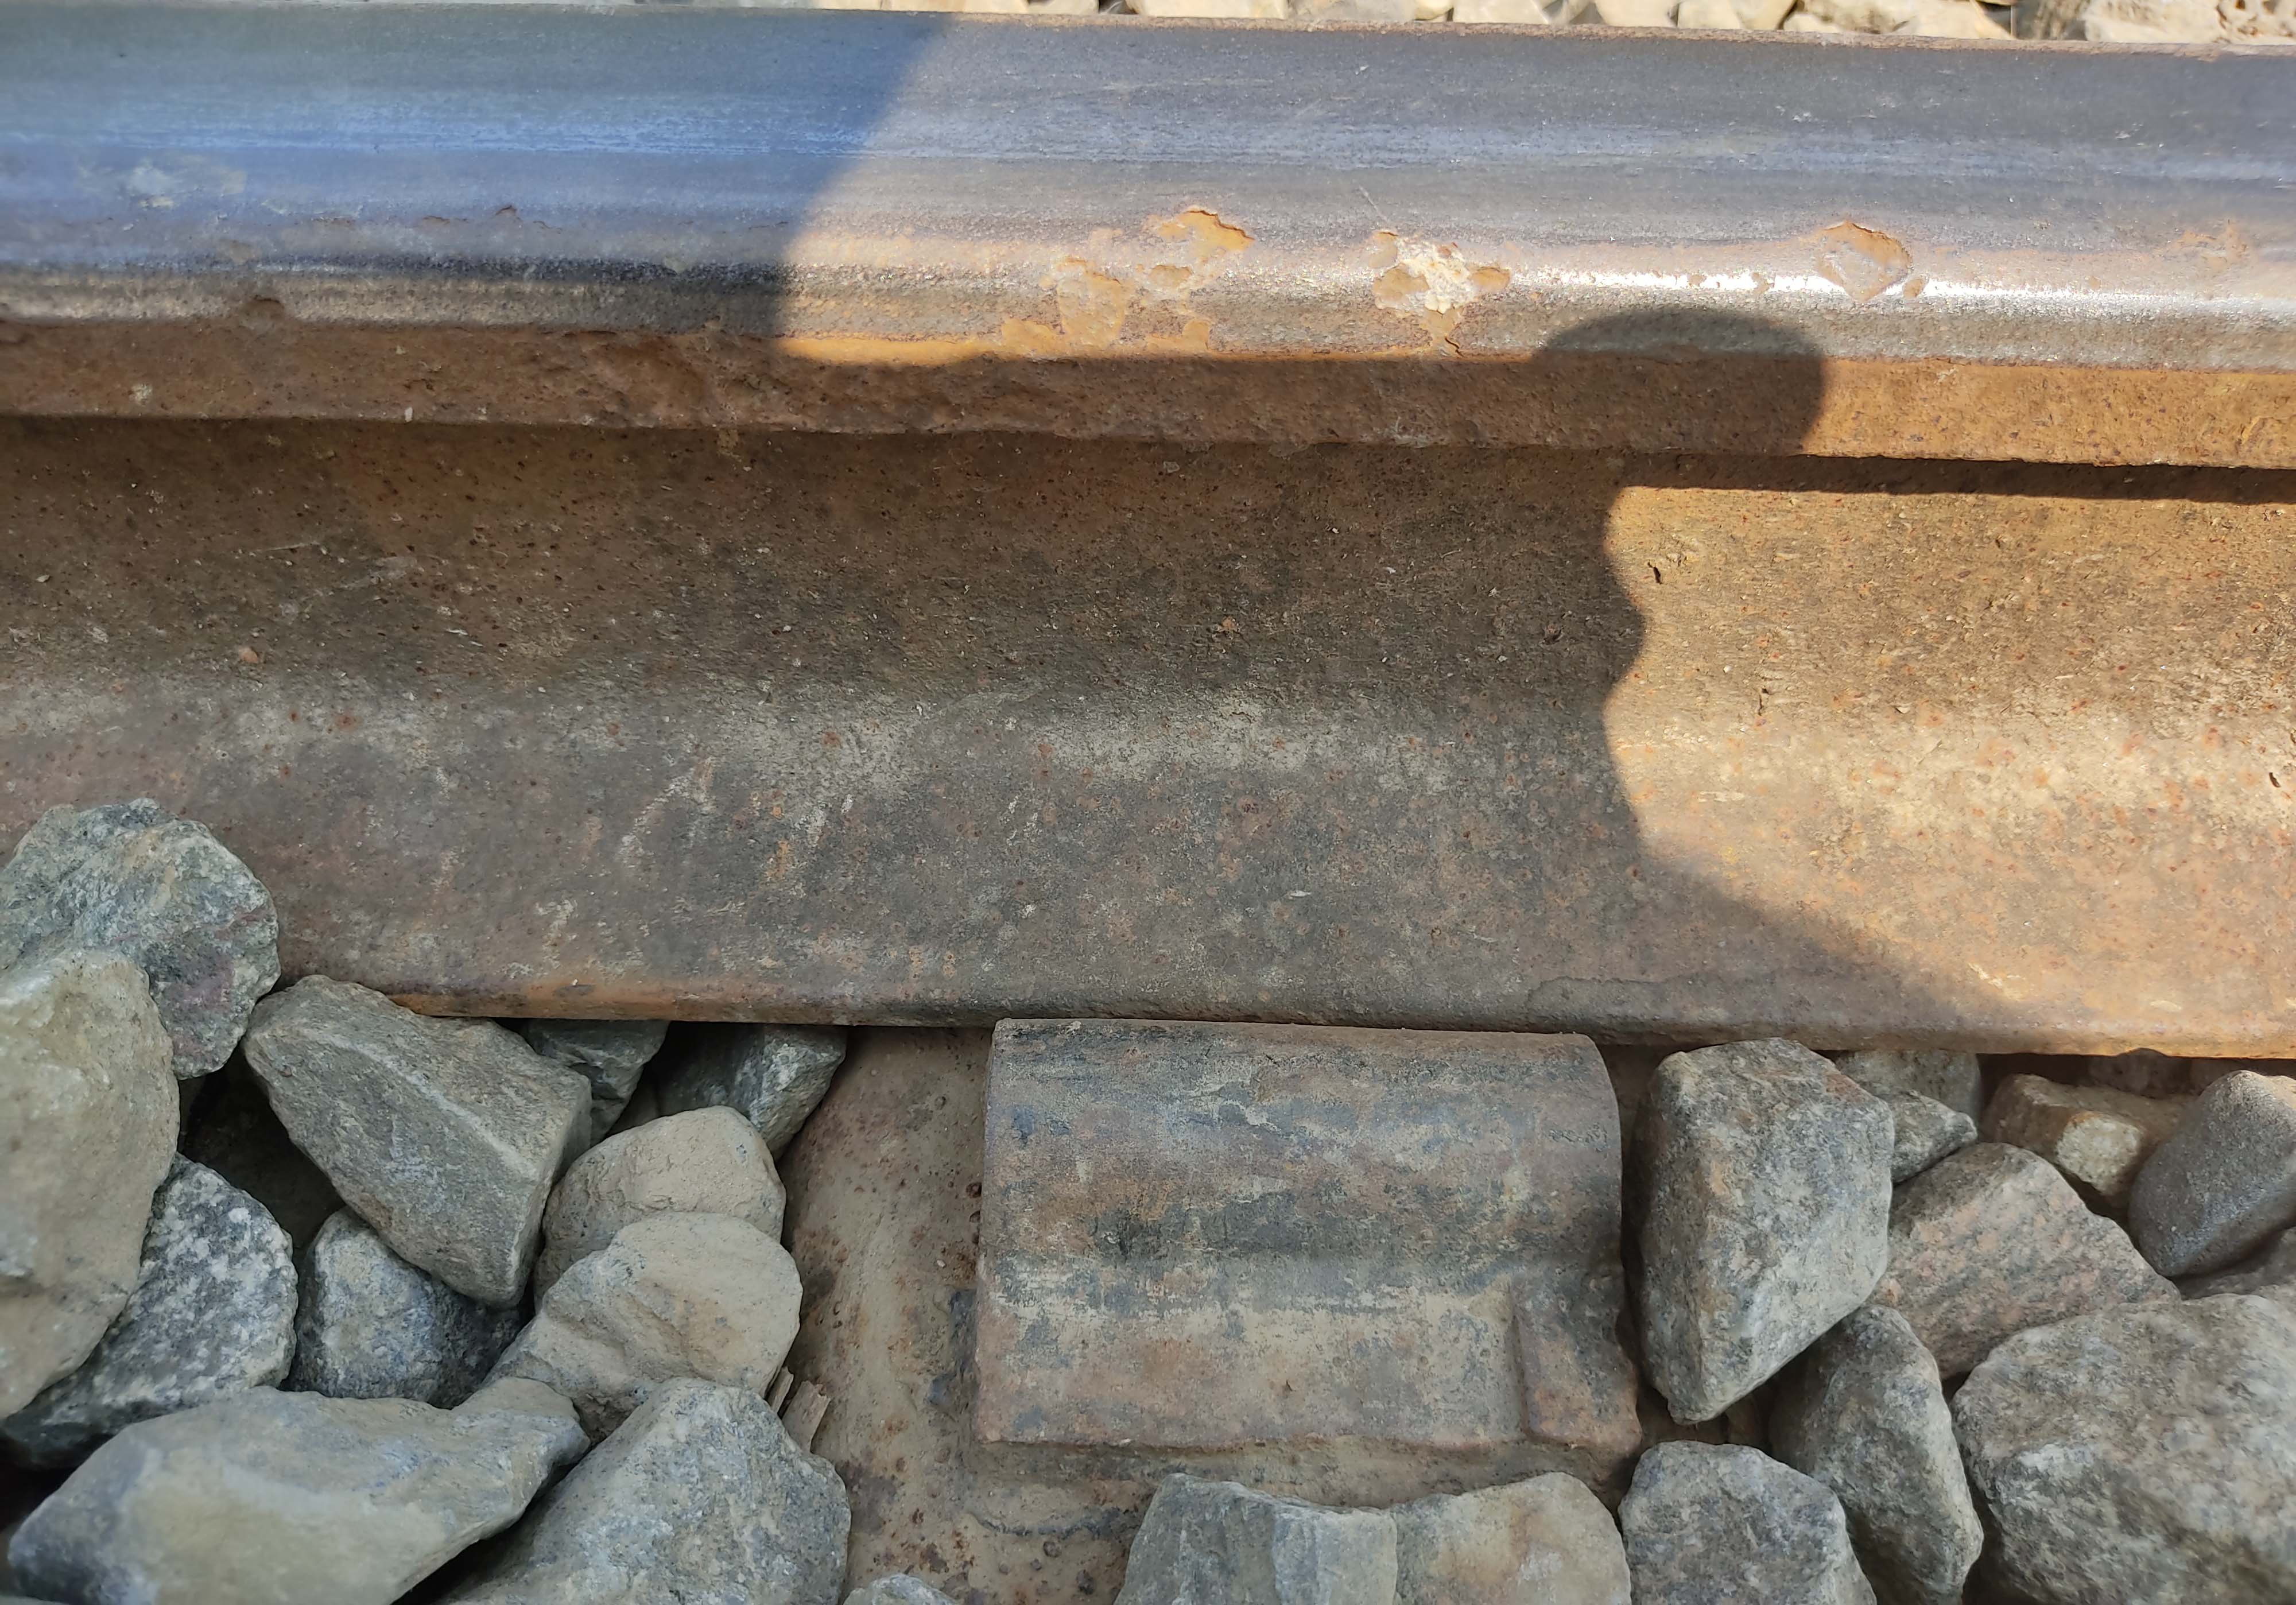error1: (872, 926, 1758, 1517)
